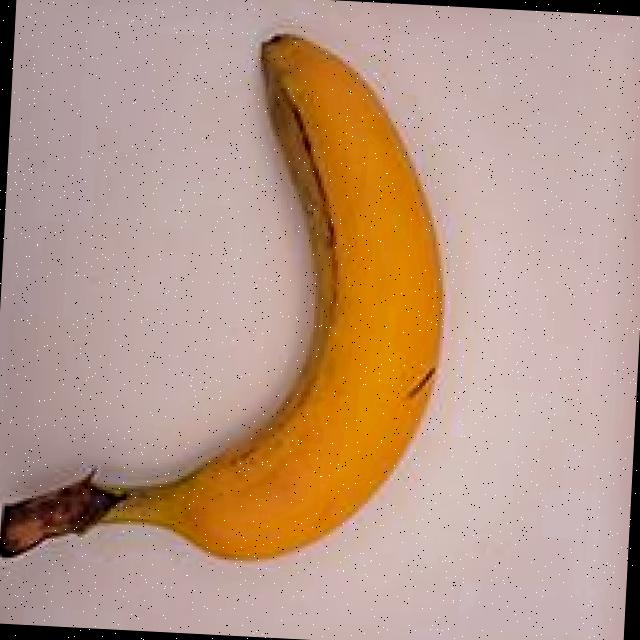Ripe: (0, 0, 466, 598)
